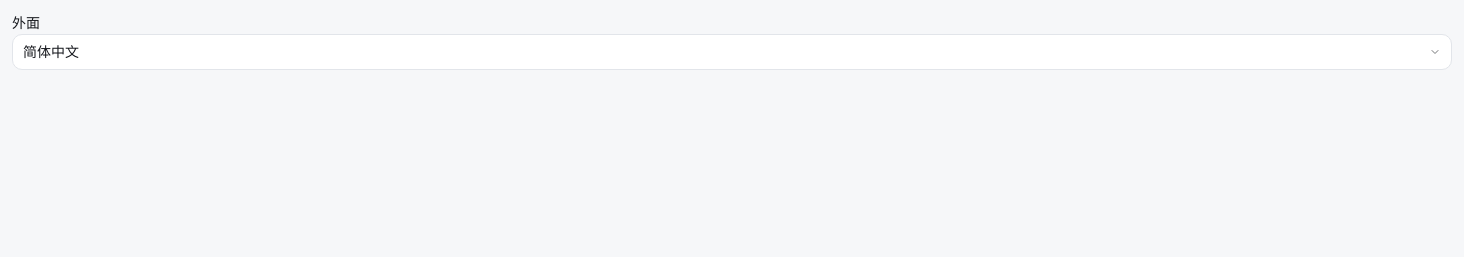
Test: Select › 点击外部关闭面板
Click the button.
click(51, 51)  # box 12,34 -> 1452,70
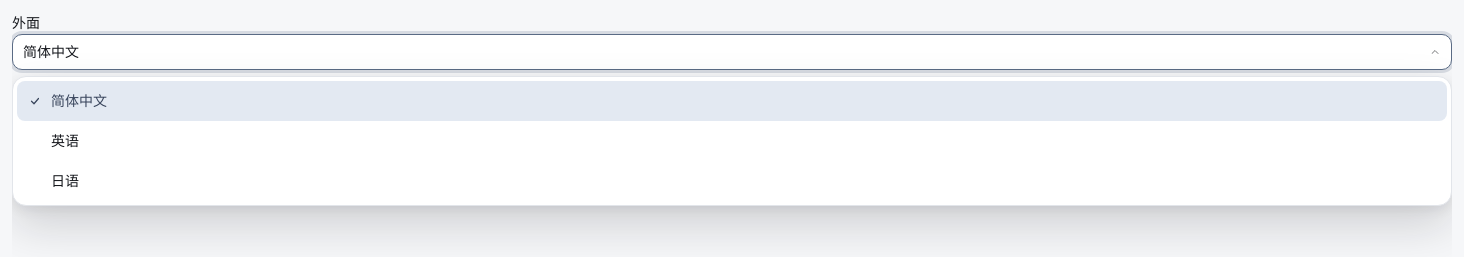
Expected: the list is shown, 12,76 -> 1452,206
Click the text "外面".
click(26, 22)  # box 12,14 -> 40,31
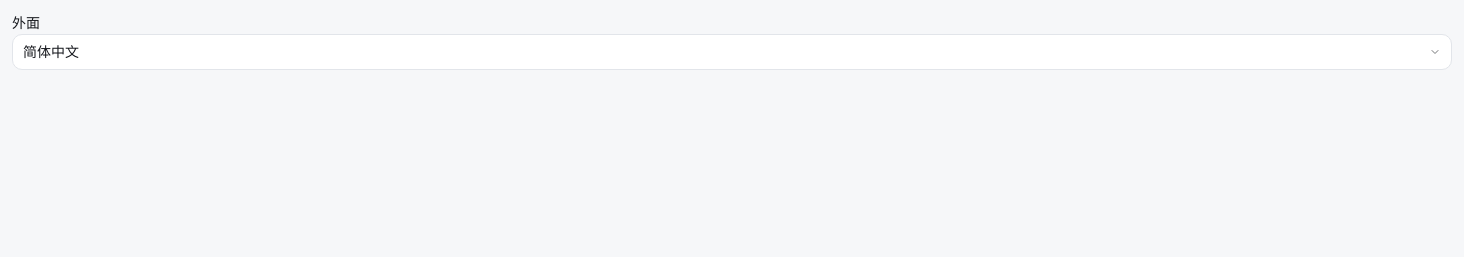
Expected: the list is gone
